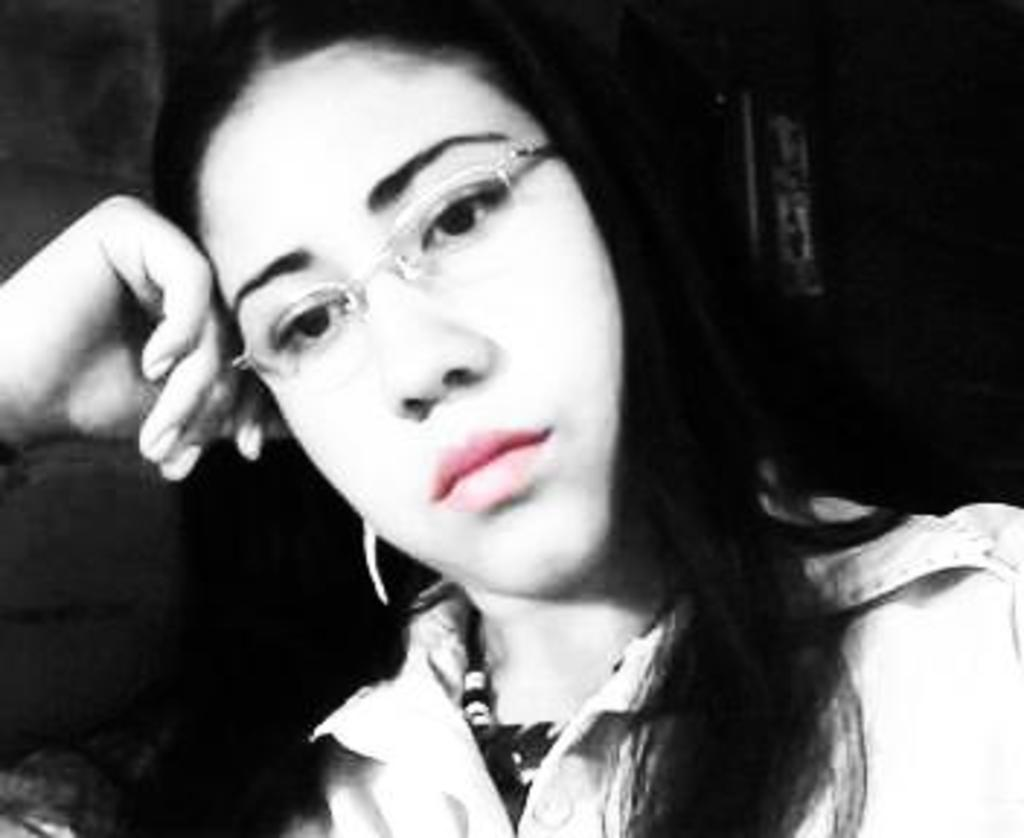Human_hand: (0, 194, 289, 482)
